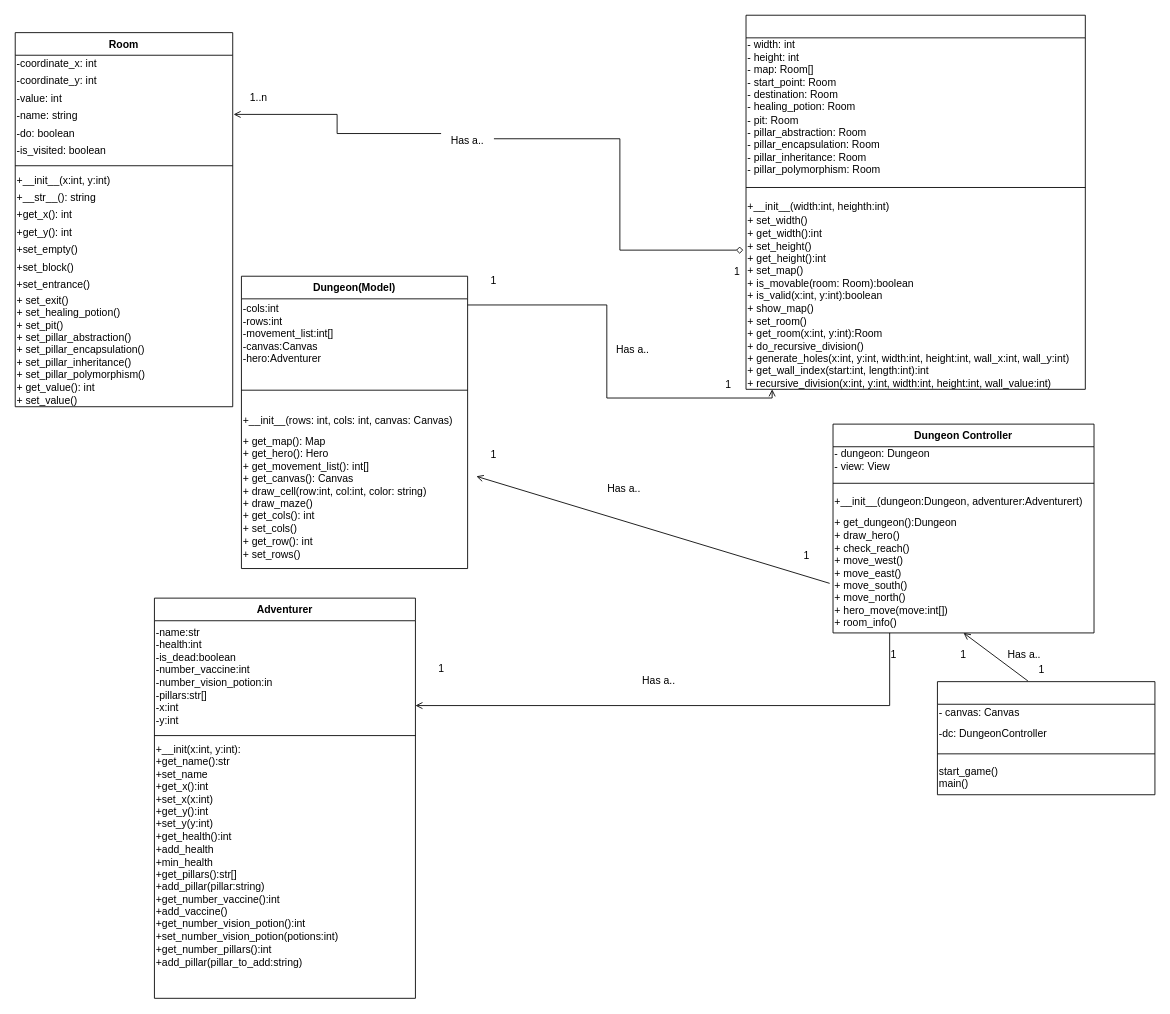
Some shapes in this 1170 by 1014 pixel diagram are drawn without their labels. Each missing label, with the box of its shape:
Dungeon Adventure(view): (937, 681, 1155, 795)
Map (Builder): (745, 14, 1085, 389)
